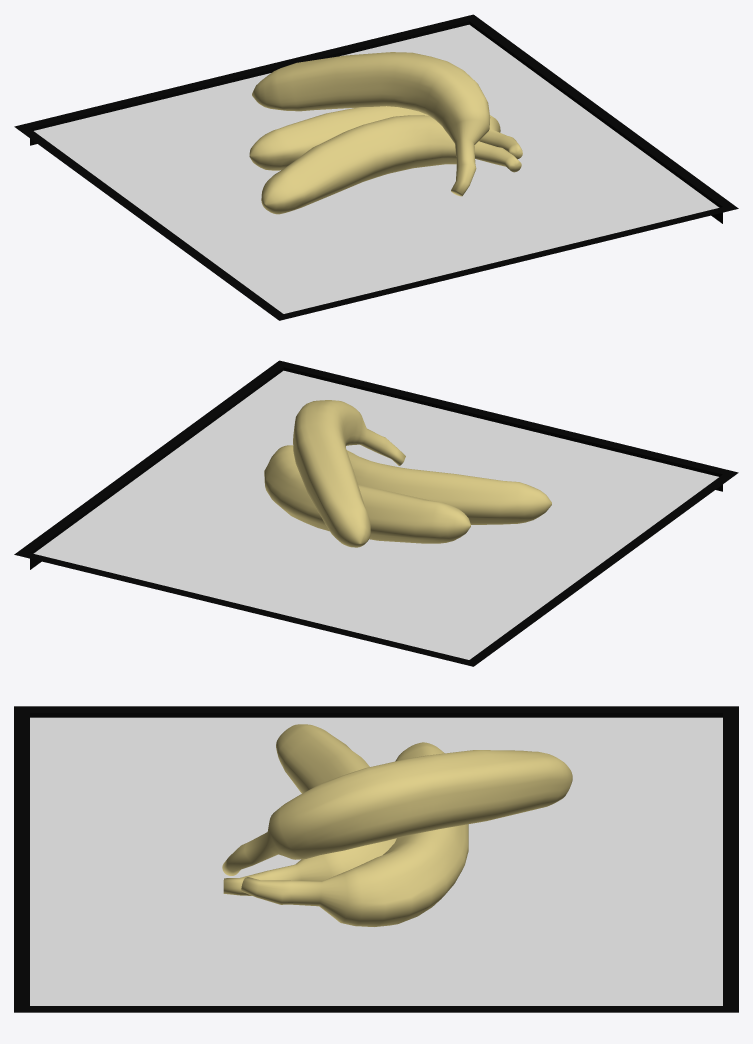
The model's file is banana.dae.
The picture shows the model from 3 angles, top to bottom: view 1: azimuth 30°, elevation 25°; view 2: azimuth 150°, elevation 25°; view 3: azimuth 270°, elevation 25°; orthographic projection. The views are drawn at different scales.
Parts seen in each view (by area): view 1: Table, Cylinder_002, Edge, Cylinder, Cylinder_001; view 2: Table, Edge, Cylinder_002, Cylinder_001, Cylinder; view 3: Table, Edge, Cylinder_002, Cylinder_001, Cylinder.
Part boxes in pixels (box(x1,y1,x2,y2)): Table: box(34, 24, 719, 313); Cylinder_002: box(252, 52, 490, 196); Edge: box(14, 14, 738, 320); Cylinder: box(261, 115, 521, 214); Cylinder_001: box(249, 106, 522, 170); Table: box(33, 370, 718, 659); Edge: box(14, 360, 738, 666); Cylinder_002: box(293, 400, 405, 547); Cylinder_001: box(264, 445, 470, 543); Cylinder: box(345, 446, 551, 524); Table: box(30, 717, 722, 1005); Edge: box(14, 706, 738, 1012); Cylinder_002: box(222, 750, 572, 875); Cylinder_001: box(241, 742, 468, 926); Cylinder: box(223, 724, 396, 895).
Bounding box in the file's own units: 19.5 × 19.5 × 4.45.
